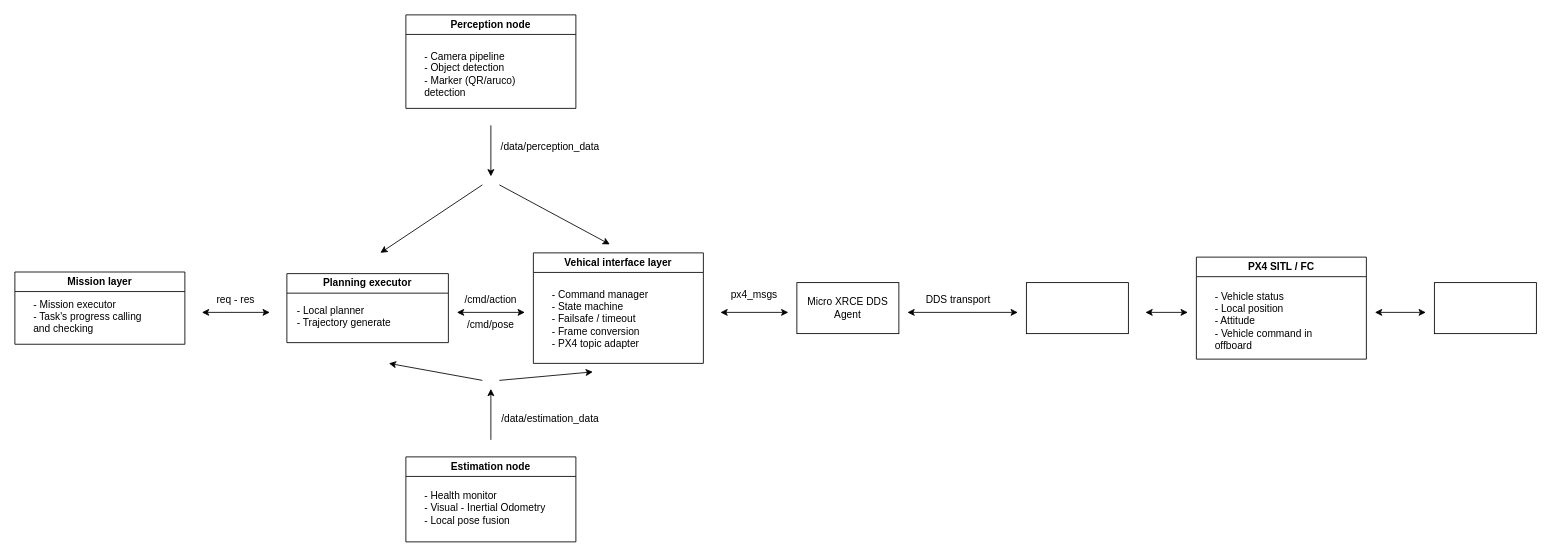
The diagram is 1551 pixels wide and 557 high, and some of its shapes have lost their labels. The shapes that lost their labels are listed below. From the top down, each one's centre as x and y in pixels, then its label:
(1077,308): uXRCE DDS Client
(1485,308): Gazebo / Real drone
